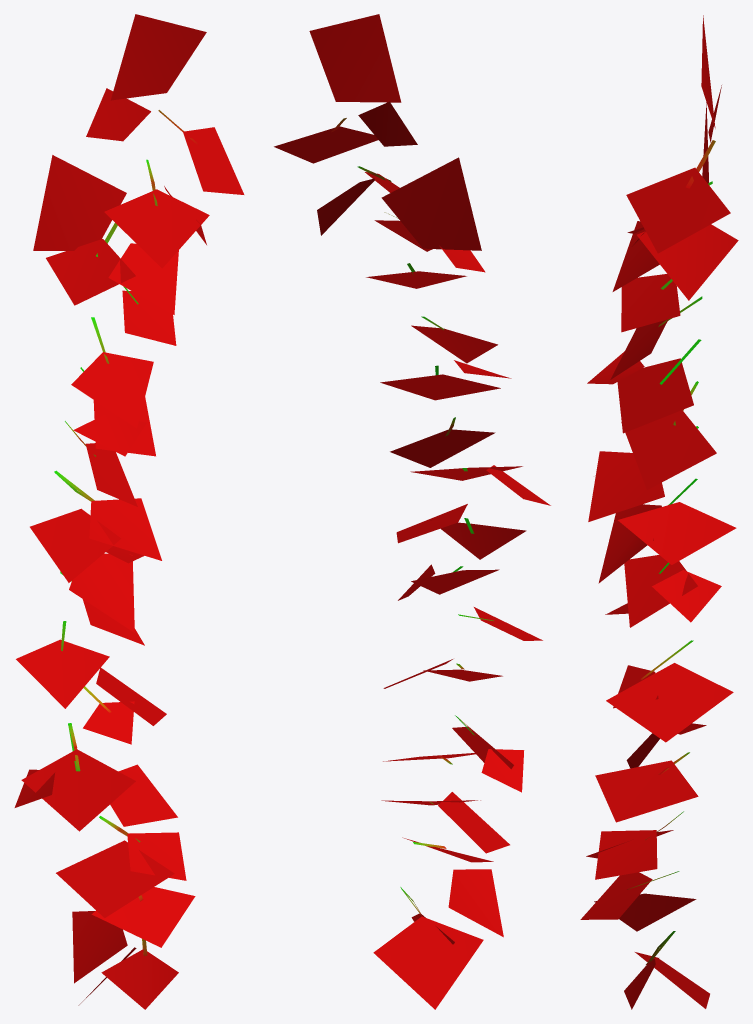
File: Var12_LOD5.fbx
3 renders of one model, left to right at view 1: azimuth 30°, elevation 25°; view 2: azimuth 150°, elevation 25°; view 3: azimuth 270°, elevation 25°, orthographic. The views are drawn at different scales.
Visible parts, largest first — view 1: _r1go_Var12_LOD5; view 2: _r1go_Var12_LOD5; view 3: _r1go_Var12_LOD5.
Part boxes in pixels (x1,y1,x2,y2): _r1go_Var12_LOD5: (14, 14, 244, 1009); _r1go_Var12_LOD5: (274, 14, 550, 1009); _r1go_Var12_LOD5: (580, 15, 738, 1009).
Size of the model in its own units: 16.37 by 68.3 by 9.57.
